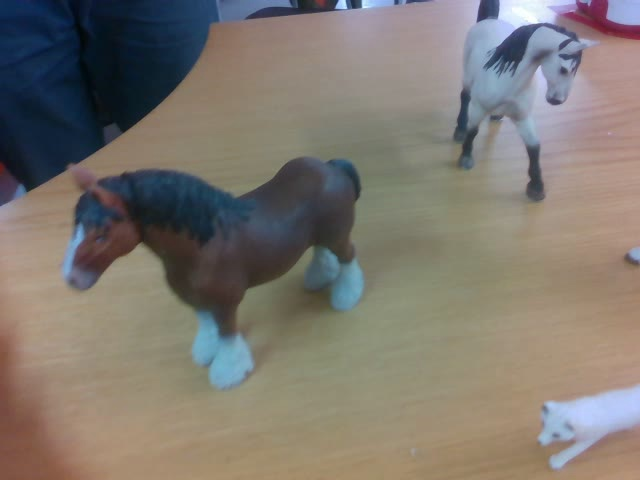toy: (62, 156, 365, 386), (453, 1, 604, 203)
